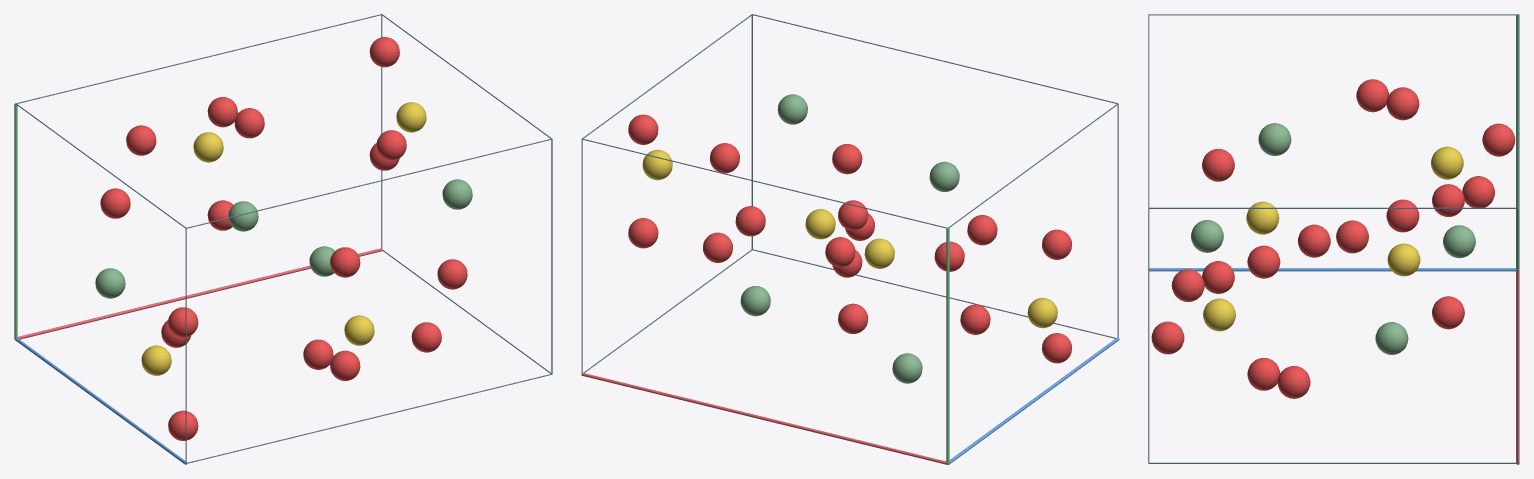
File: barite.glb
3 views of the same model, side by side, from view 1: azimuth 30°, elevation 25°; view 2: azimuth 150°, elevation 25°; view 3: azimuth 270°, elevation 25° (orthographic). The views are drawn at different scales.
Visible parts, largest first — view 1: Ô mạng và các trục a, b, c, O3 · O · 1 (×7), S · S · 1 (×4), O1 · O · 1 (×4), Ba · Ba · 1 (×4), O2 · O · 1 (×3); view 2: Ô mạng và các trục a, b, c, O3 · O · 1 (×7), Ba · Ba · 1 (×4), S · S · 1 (×4), O1 · O · 1 (×4), O2 · O · 1 (×3); view 3: O3 · O · 1 (×8), Ô mạng và các trục a, b, c, O2 · O · 1 (×4), Ba · Ba · 1 (×4), S · S · 1 (×4), O1 · O · 1 (×4).
Boxes of the visible parts, <box> form: Ô mạng và các trục a, b, c: <box>14,14,552,464</box>; O3 · O · 1 (×7): <box>168,37,399,440</box>; S · S · 1 (×4): <box>141,102,426,375</box>; O1 · O · 1 (×4): <box>100,108,467,369</box>; Ba · Ba · 1 (×4): <box>95,179,472,298</box>; O2 · O · 1 (×3): <box>126,125,441,352</box>; Ô mạng và các trục a, b, c: <box>581,14,1119,464</box>; O3 · O · 1 (×7): <box>628,114,1071,363</box>; Ba · Ba · 1 (×4): <box>740,94,959,383</box>; S · S · 1 (×4): <box>642,149,1057,328</box>; O1 · O · 1 (×4): <box>703,206,997,271</box>; O2 · O · 1 (×3): <box>710,143,990,334</box>; O3 · O · 1 (×8): <box>1202,87,1464,390</box>; Ô mạng và các trục a, b, c: <box>1148,14,1519,464</box>; O2 · O · 1 (×4): <box>1151,123,1515,354</box>; Ba · Ba · 1 (×4): <box>1191,123,1475,354</box>; S · S · 1 (×4): <box>1203,146,1463,331</box>; O1 · O · 1 (×4): <box>1171,79,1494,398</box>.
Size of the model in its own units: 8.93 by 5.77 by 7.2.
